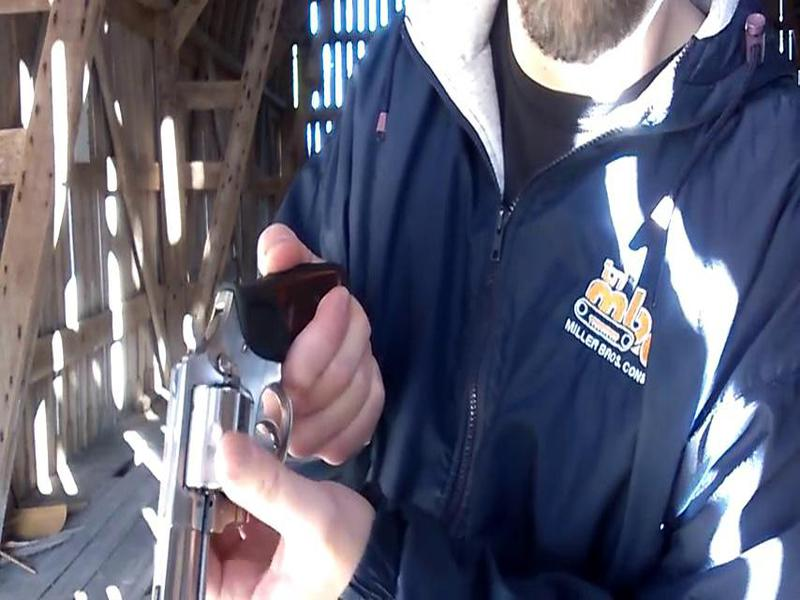Revolver: (141, 223, 376, 600)
